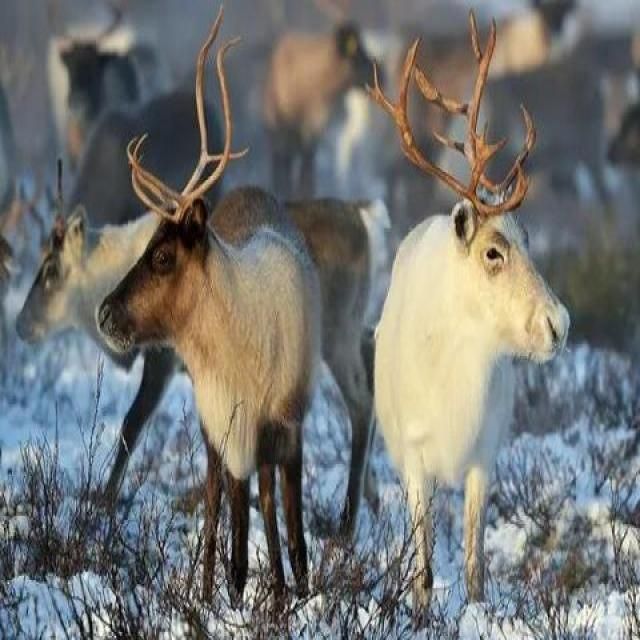deer: (338, 93, 566, 612), (21, 166, 327, 494), (110, 161, 334, 578)
